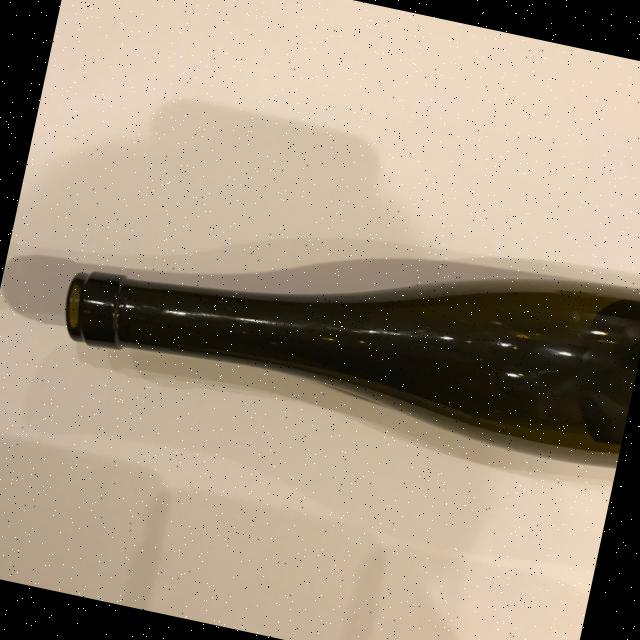glass: (55, 163, 640, 460)
